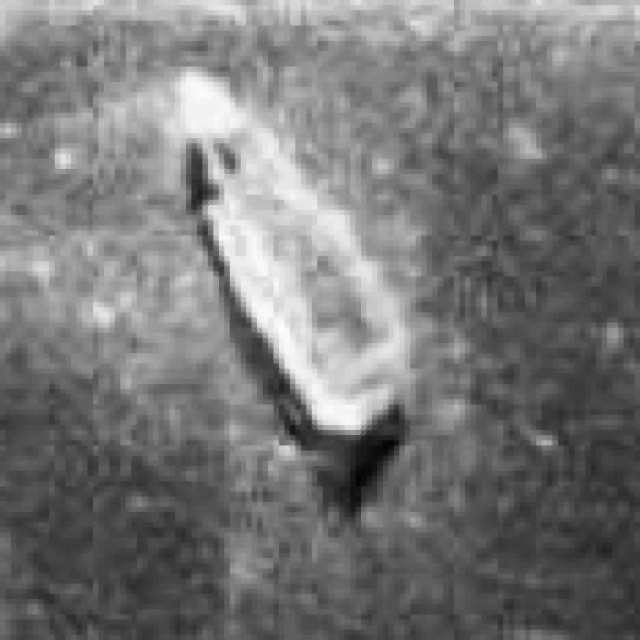Ship: (152, 52, 437, 494)
